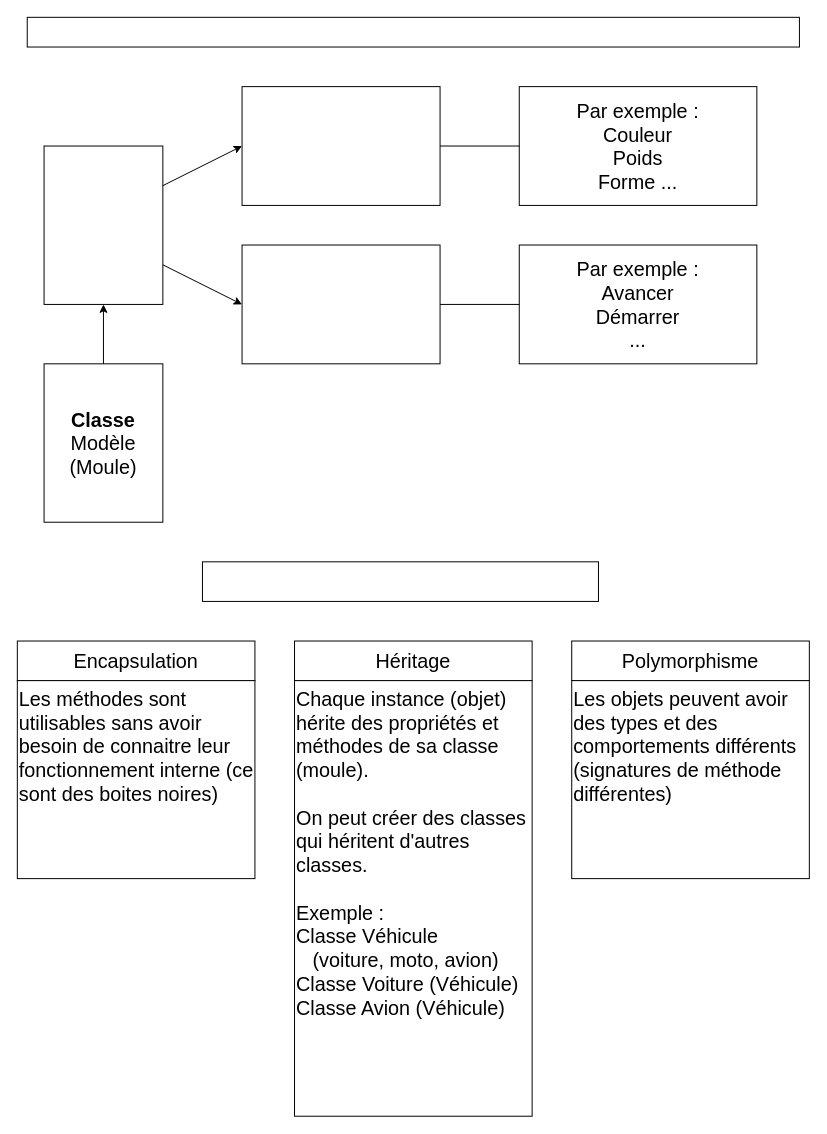
Some shapes in this 827 by 1134 pixel diagram are drawn without their labels. Here are the shapes that lost their labels. From the top down, the centre of each, then its label:
At (412,31): "Programmation Orientée Objet".
At (340,145): "Informations Attributs Propriétés".
At (103,224): "Objet Instance".
At (340,304): "Méthodes Fonction".
At (399,581): "Notions associées :".
